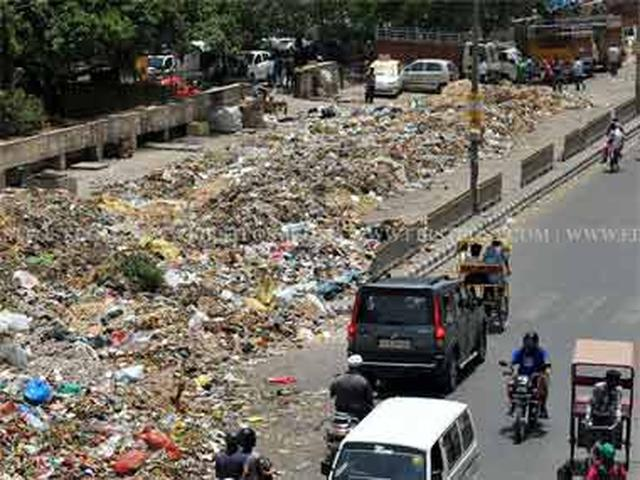garbage: (11, 195, 210, 474), (224, 160, 333, 294), (331, 112, 456, 161)
